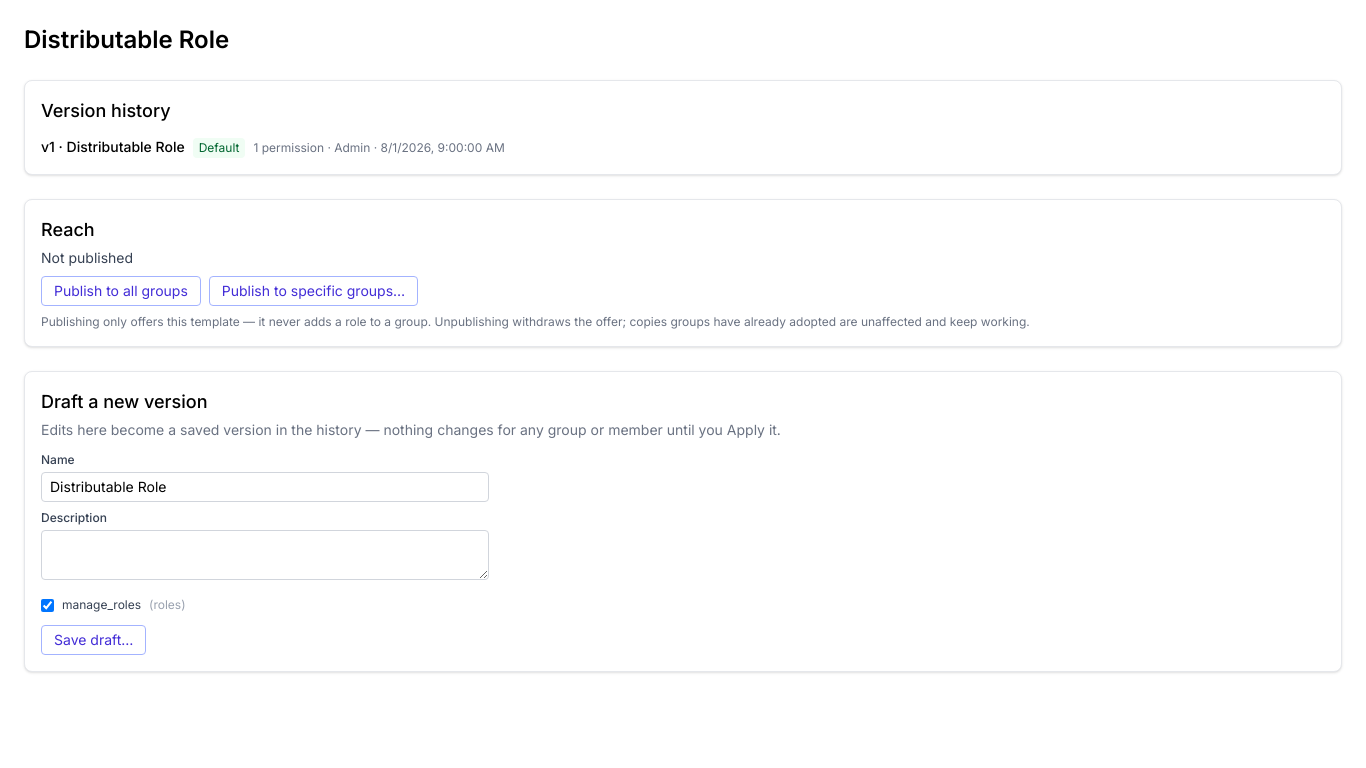
it: FEAT-H044 STORY-3 — the reach section › surfaces a refused publish verbatim and leaves the reach unchanged
Click the button "Publish to all groups": [121, 291] box x1=41 y1=276 x2=201 y2=306
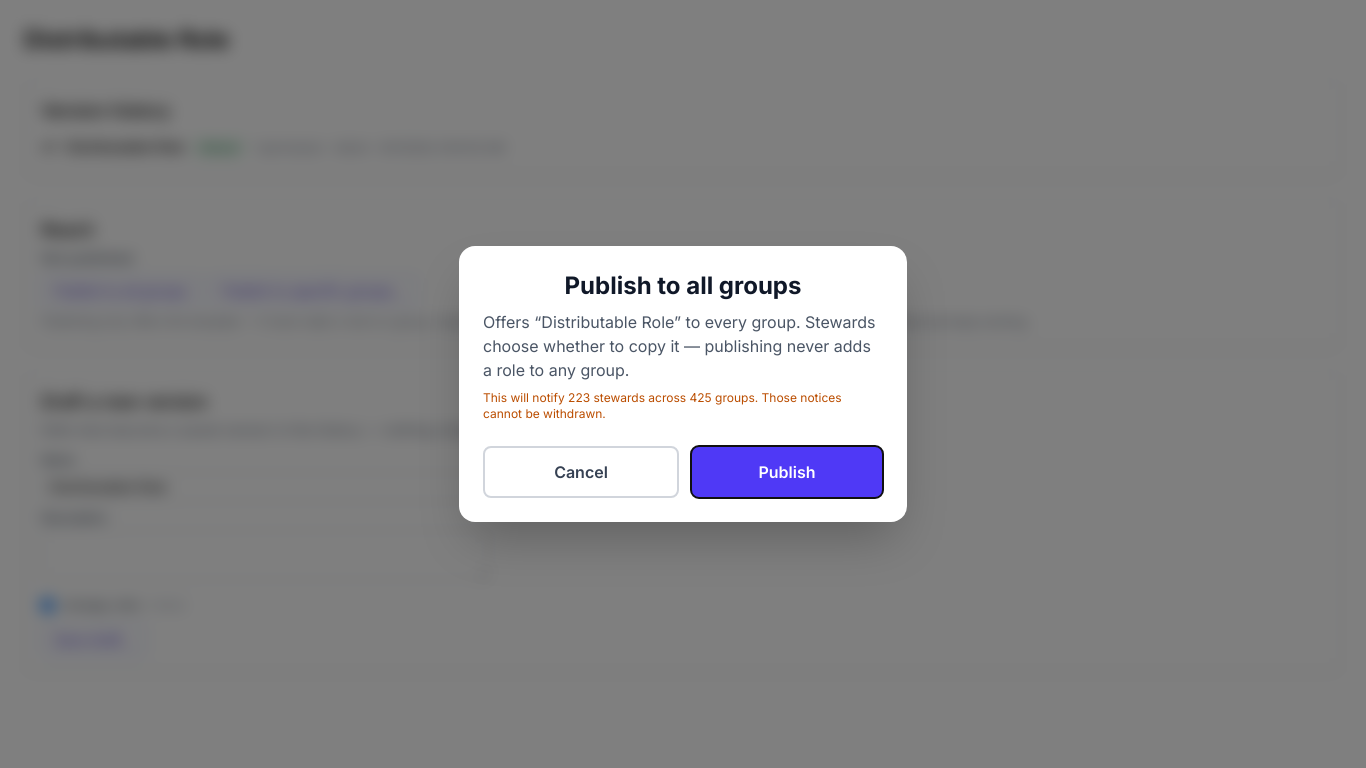
Click the button with test id "confirm-modal-confirm": [787, 472] box x1=691 y1=446 x2=883 y2=498
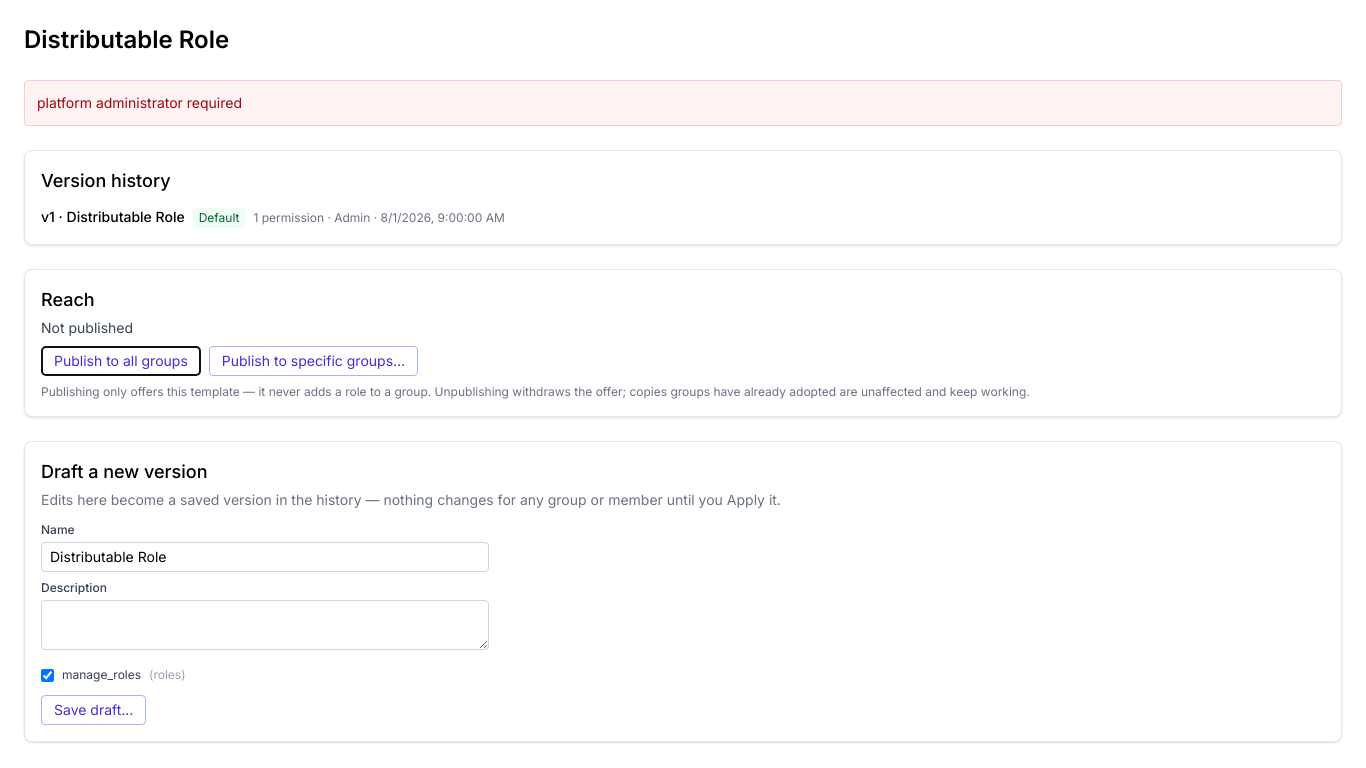
Expected: the text with test id "reach-summary" reads "Not published", x1=41 y1=319 x2=133 y2=336
Expected: the message with test id "ceremony-outcome" reads "platform administrator required", x1=37 y1=94 x2=242 y2=111
